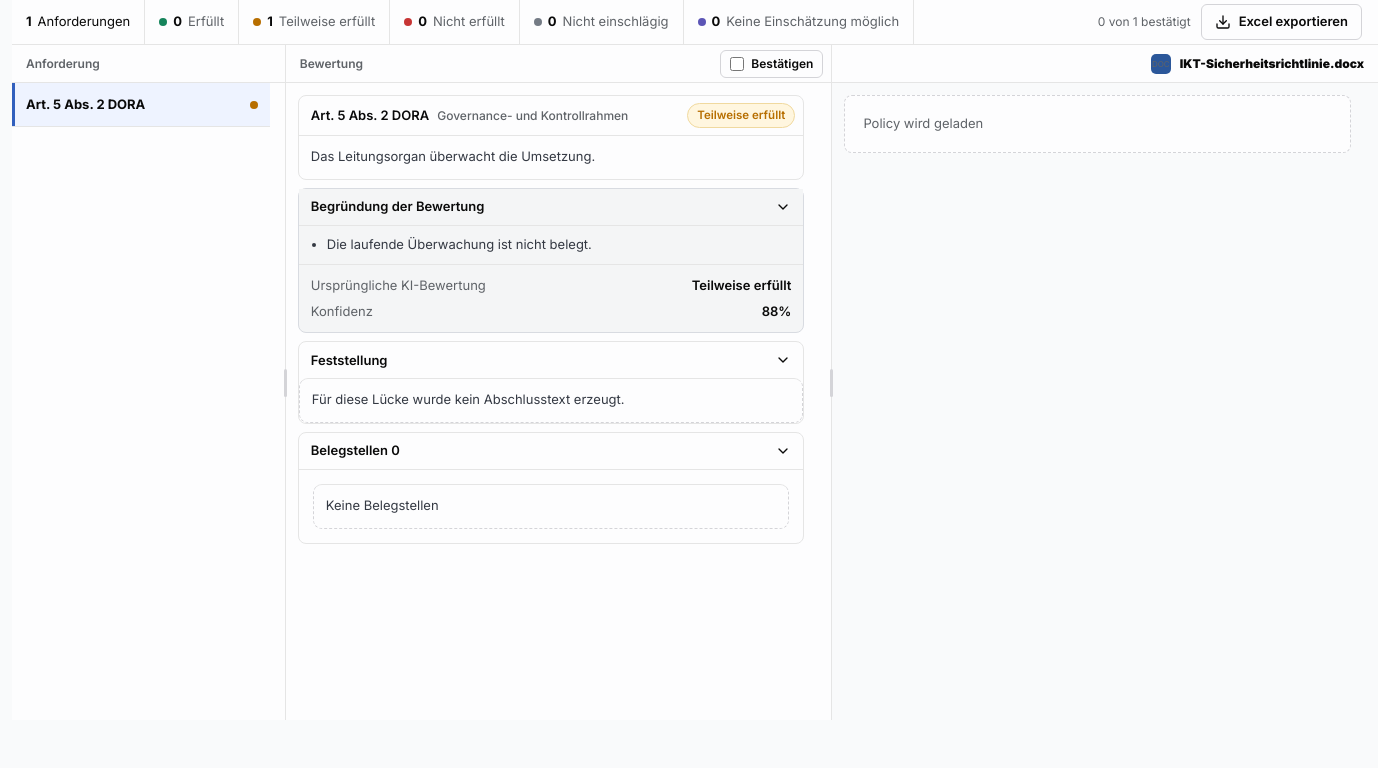
analysis result confirmation UI › persists an individual confirmation and updates the summary
The width and height of the screenshot is (1378, 768).
Expected: the text "0 von 1 bestätigt" is shown, [1098,13,1191,31]
Click the checkbox labelled "Bestätigen". click: (737,64)
box: [730,56,744,70]
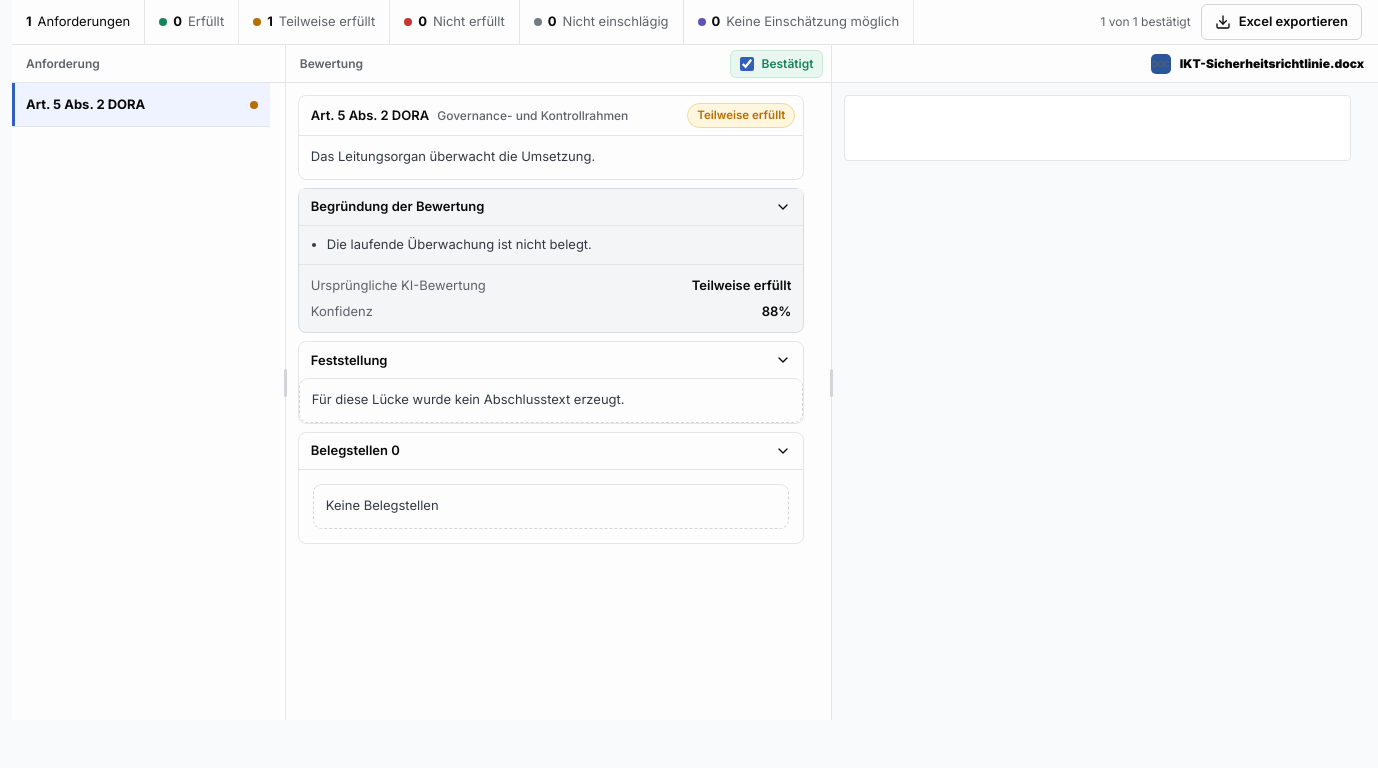
Expected: the checkbox labelled "Bestätigt" is checked, [740,56,754,70]
Expected: the text "1 von 1 bestätigt" is shown, [1100,13,1191,31]
